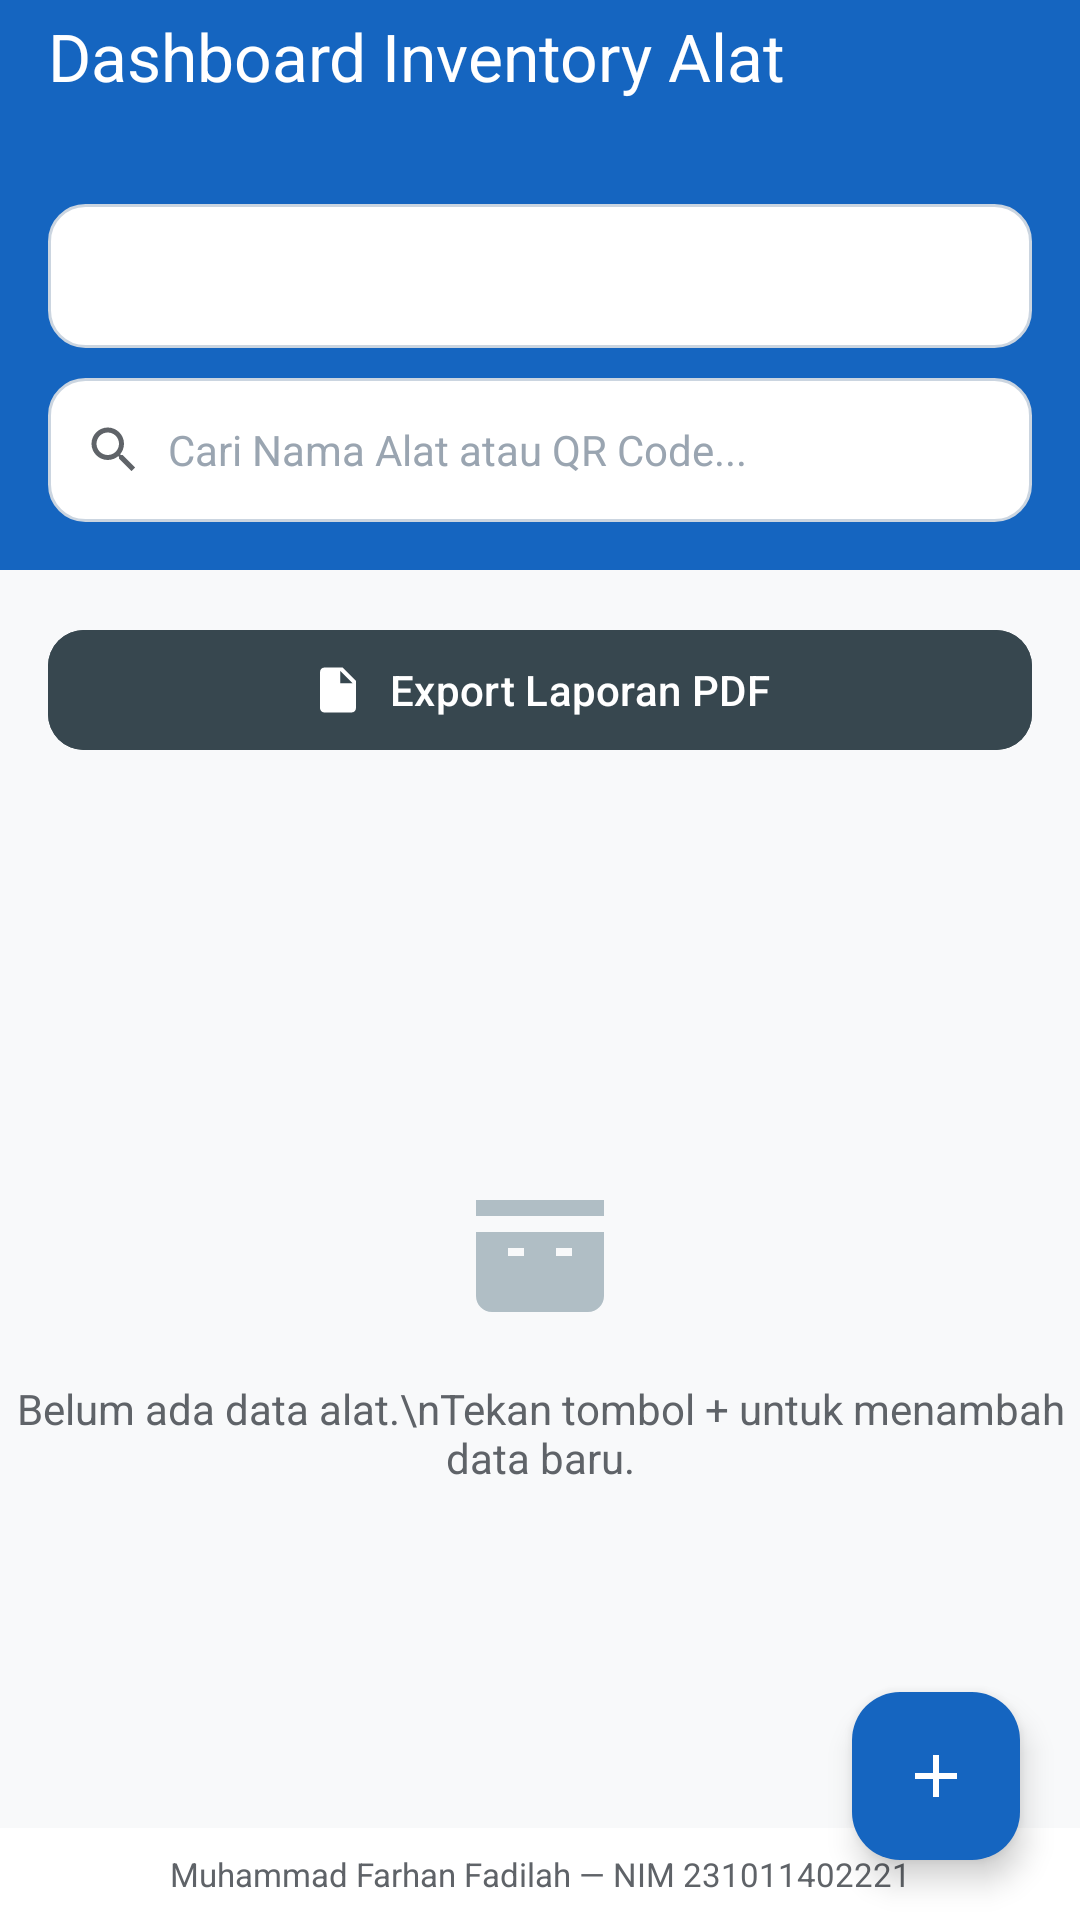

Screen size 1080 × 1920. Icon name, then its box in pixels as (x1, y1, x2, y2):
empty box: (476, 1200, 604, 1312)
search: (91, 427, 135, 471)
Tambah Data Alat: (852, 1692, 1020, 1860)
